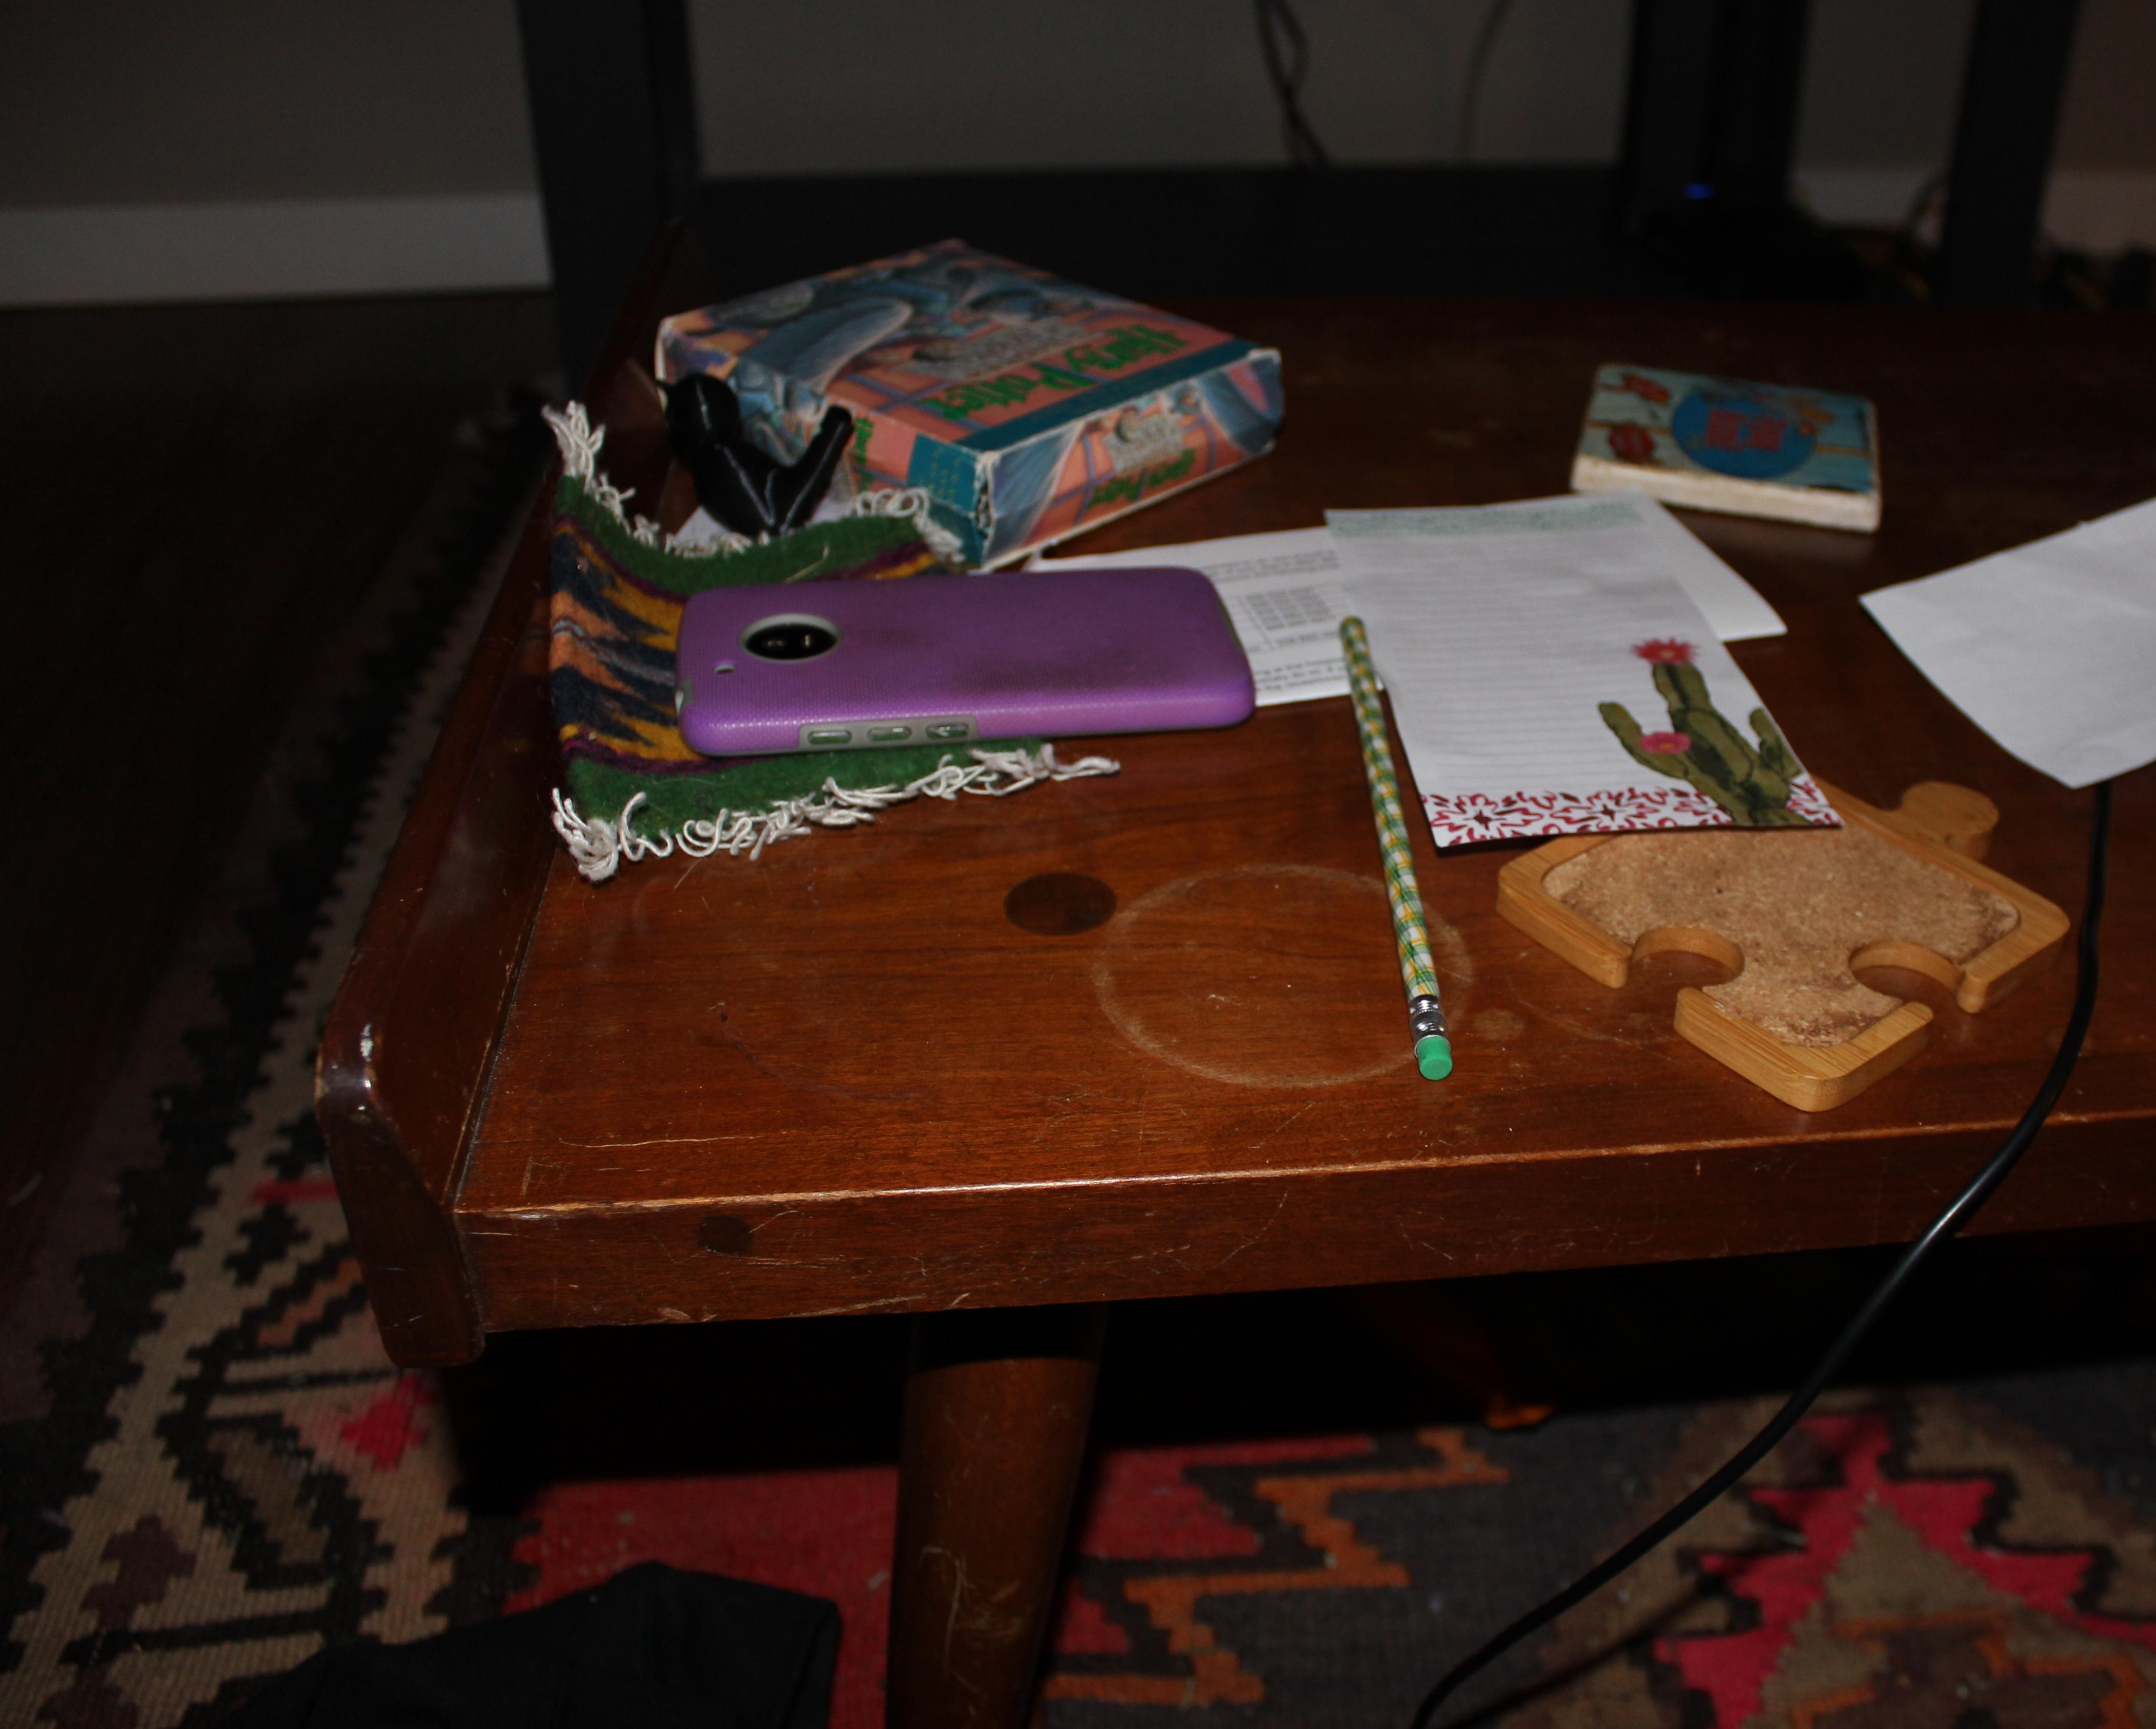plaidPencil: (1316, 602, 1477, 1103)
